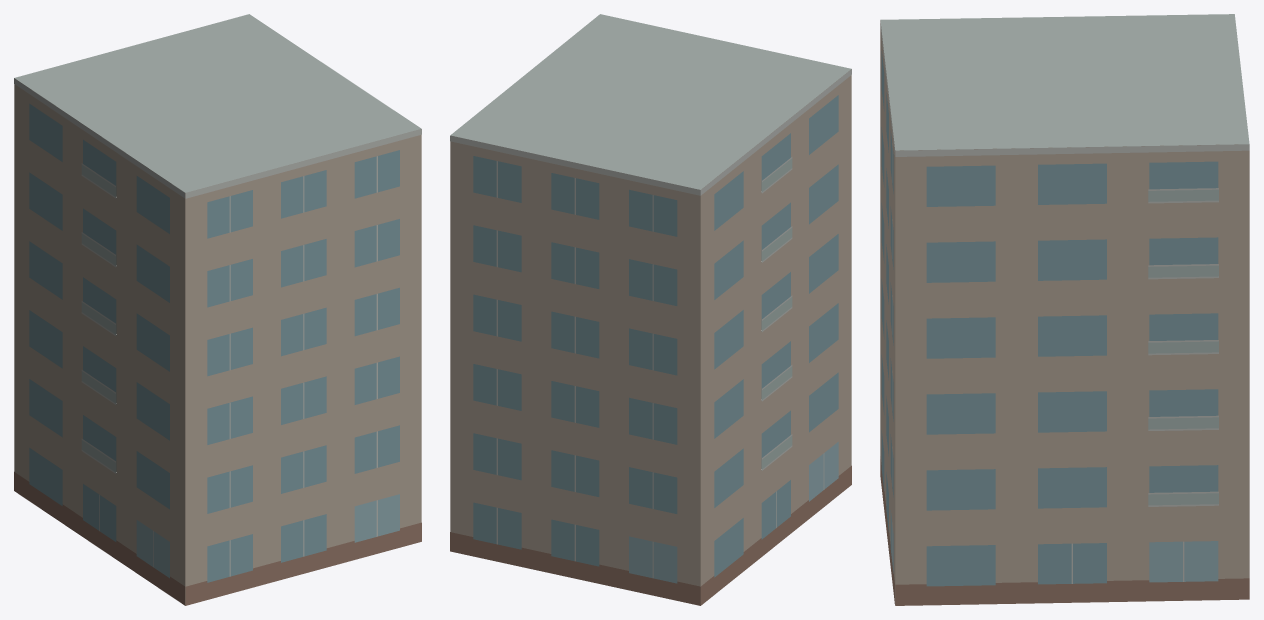
Rendered from survey-upis-32747350.glb.
The picture shows the model from 3 angles, left to right: view 1: azimuth 30°, elevation 25°; view 2: azimuth 150°, elevation 25°; view 3: azimuth 270°, elevation 25°; orthographic projection. The views are drawn at different scales.
Visible parts, largest first — view 1: survey-upis-32747350.tmp; view 2: survey-upis-32747350.tmp; view 3: survey-upis-32747350.tmp.
Part boxes in pixels (box(x1,y1,x2,y2)): survey-upis-32747350.tmp: box(14, 14, 421, 605); survey-upis-32747350.tmp: box(450, 14, 851, 605); survey-upis-32747350.tmp: box(880, 14, 1249, 605).
Size of the model in its own units: 11.01 by 17.1 by 12.58.
